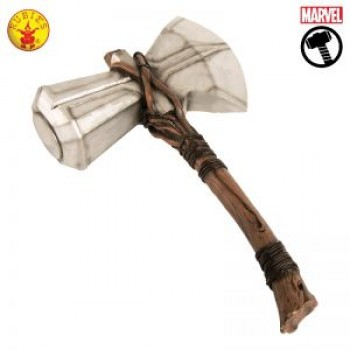THOR Hammer: (23, 5, 327, 322)
